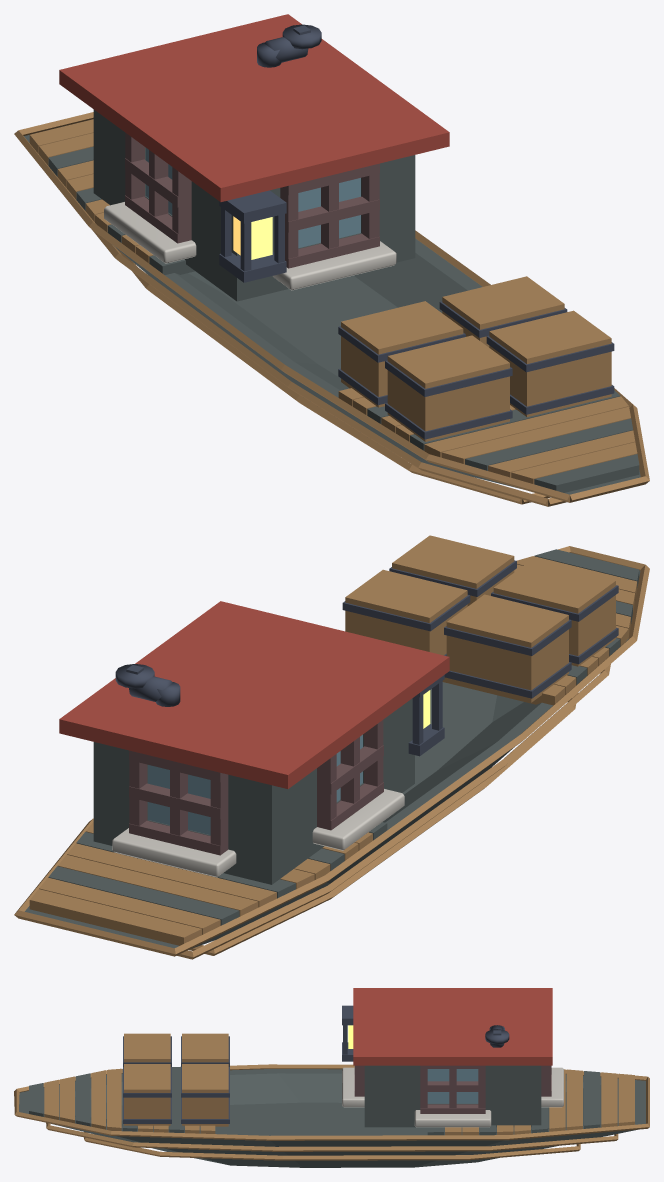
File: barge.glb
The picture shows the model from 3 angles, top to bottom: view 1: azimuth 30°, elevation 25°; view 2: azimuth 150°, elevation 25°; view 3: azimuth 270°, elevation 25°; orthographic projection. The views are drawn at different scales.
Parts seen in each view (by area): view 1: Barge_flat_cabin_roof, Barge_hollow_hull, Barge_cargo_crate, Barge_cargo_crate.001, Barge_hull_strake, Barge_cargo_crate.002, Barge_hull_strake.001, Barge_cargo_crate.003, Barge_hull_strake.002, Barge_front_sill, Barge_boarded_deck.005, Barge_boarded_deck.004 (+37 smaller); view 2: Barge_flat_cabin_roof, Barge_hollow_hull, Barge_cargo_crate.002, Barge_hull_strake, Barge_cargo_crate.003, Barge_cargo_crate, Barge_cargo_crate.001, Barge_hull_strake.001, Barge_boarded_deck.023, Barge_cabin.025, Barge_boarded_deck.019, Barge_boarded_deck.020 (+35 smaller); view 3: Barge_hollow_hull, Barge_flat_cabin_roof, Barge_hull_strake, Barge_hull_strake.001, Barge_hull_strake.002, Barge_cargo_crate.003, Barge_cargo_crate.001, Barge_cabin.014, Barge_cabin.009, Barge_cargo_crate, Barge_cargo_crate.002, glass_Barge_right (+30 smaller).
Boxes of the visible parts, x1,y1,x2,y2 form: Barge_flat_cabin_roof: (59,14,449,201); Barge_hollow_hull: (24,135,640,494); Barge_cargo_crate: (387,335,509,441); Barge_cargo_crate.001: (489,310,611,417); Barge_hull_strake: (14,112,649,502); Barge_cargo_crate.002: (341,301,463,407); Barge_hull_strake.001: (91,229,566,506); Barge_cargo_crate.003: (442,276,564,347); Barge_hull_strake.002: (116,248,550,504); Barge_front_sill: (272,241,396,290); Barge_boarded_deck.005: (424,396,628,457); Barge_boarded_deck.004: (441,406,630,464); Barge_flat_cabin_roof: (59,601,449,788); Barge_hollow_hull: (25,570,640,948); Barge_cargo_crate.002: (446,594,568,702); Barge_hull_strake: (14,546,649,956); Barge_cargo_crate.003: (345,569,467,655); Barge_cargo_crate: (493,560,615,666); Barge_cargo_crate.001: (392,535,514,606); Barge_hull_strake.001: (177,664,610,959); Barge_boarded_deck.023: (29,889,201,945); Barge_cabin.025: (252,768,316,850); Barge_boarded_deck.019: (67,843,276,907); Barge_boarded_deck.020: (58,855,258,916); Barge_hollow_hull: (19,1069,645,1167); Barge_flat_cabin_roof: (353,988,552,1065); Barge_hull_strake: (14,1064,649,1140); Barge_hull_strake.001: (46,1122,618,1151); Barge_hull_strake.002: (84,1132,580,1160); Barge_cargo_crate.003: (182,1064,228,1126); Barge_cargo_crate.001: (124,1064,170,1126); Barge_cabin.014: (485,1065,541,1103); Barge_cabin.009: (378,1065,420,1103); Barge_cargo_crate: (124,1033,170,1062); Barge_cargo_crate.002: (182,1033,228,1062); glass_Barge_right: (427,1069,478,1103).
Bounding box in the file's own units: 2.17 × 1.99 × 7.91.
